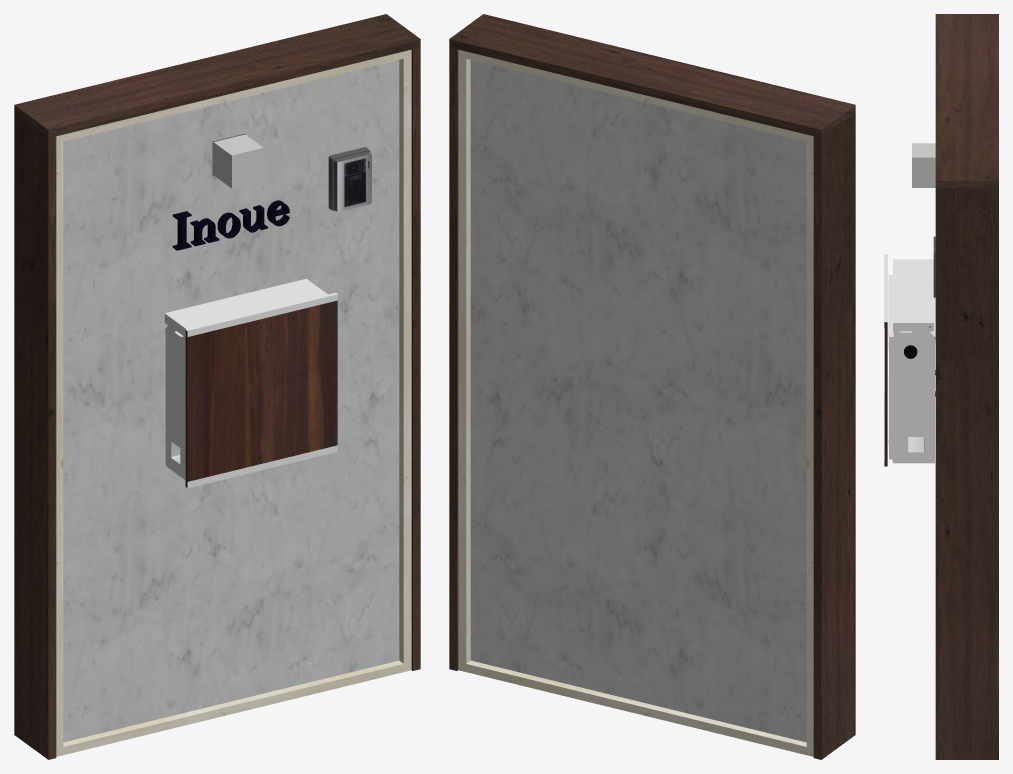
File: eabmonchustyles1_whitemarble.fbx
The picture shows the model from 3 angles, left to right: view 1: azimuth 30°, elevation 25°; view 2: azimuth 150°, elevation 25°; view 3: azimuth 270°, elevation 25°; orthographic projection. The views are drawn at different scales.
Parts seen in each view (by area): view 1: eabmonchustyles1-whitemable; view 2: eabmonchustyles1-whitemable; view 3: eabmonchustyles1-whitemable.
Part boxes in pixels (x1,y1,x2,y2): eabmonchustyles1-whitemable: (14, 14, 420, 759); eabmonchustyles1-whitemable: (449, 14, 855, 759); eabmonchustyles1-whitemable: (884, 14, 998, 759).
Bounding box in the file's own units: 94 × 152 × 27.3.
Materials: 14 (5 with a texture image).
